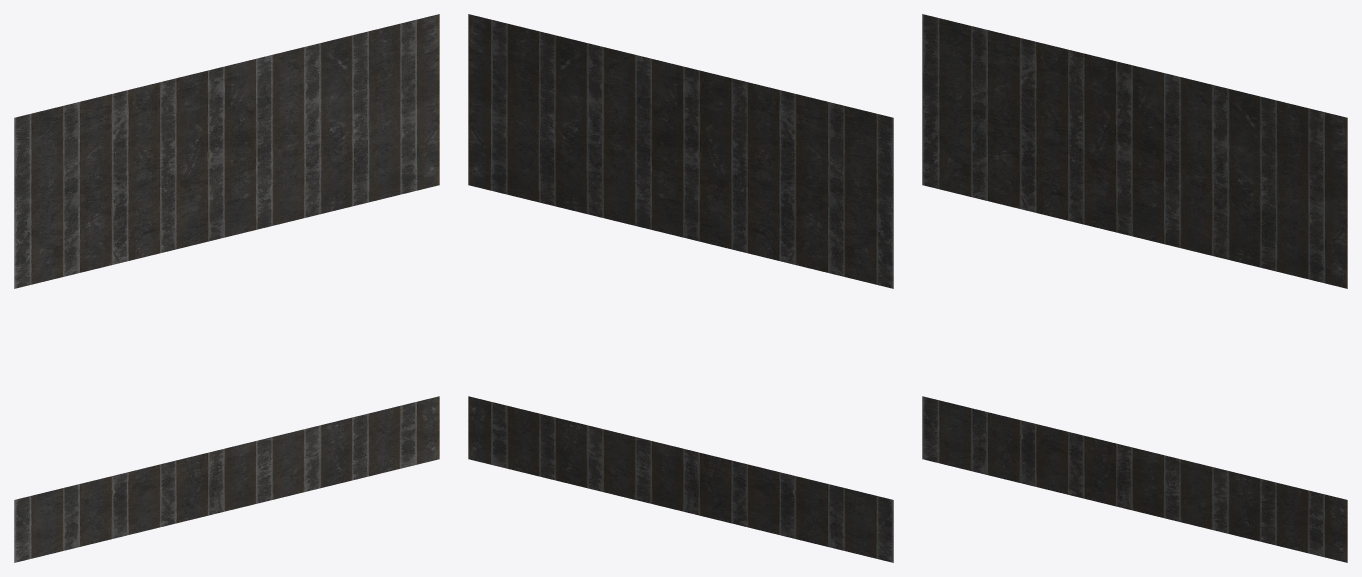
File: window_middle.fbx
3 renders of one model, left to right at view 1: azimuth 30°, elevation 25°; view 2: azimuth 150°, elevation 25°; view 3: azimuth 330°, elevation 25°, orthographic.
Visible parts, largest first — view 1: window_middle; view 2: window_middle; view 3: window_middle.
Boxes of the visible parts, x1,y1,x2,y2 form: window_middle: (14, 14, 439, 562); window_middle: (468, 14, 893, 562); window_middle: (922, 14, 1347, 562).
Size of the model in its own units: 400 by 400 by 0.
